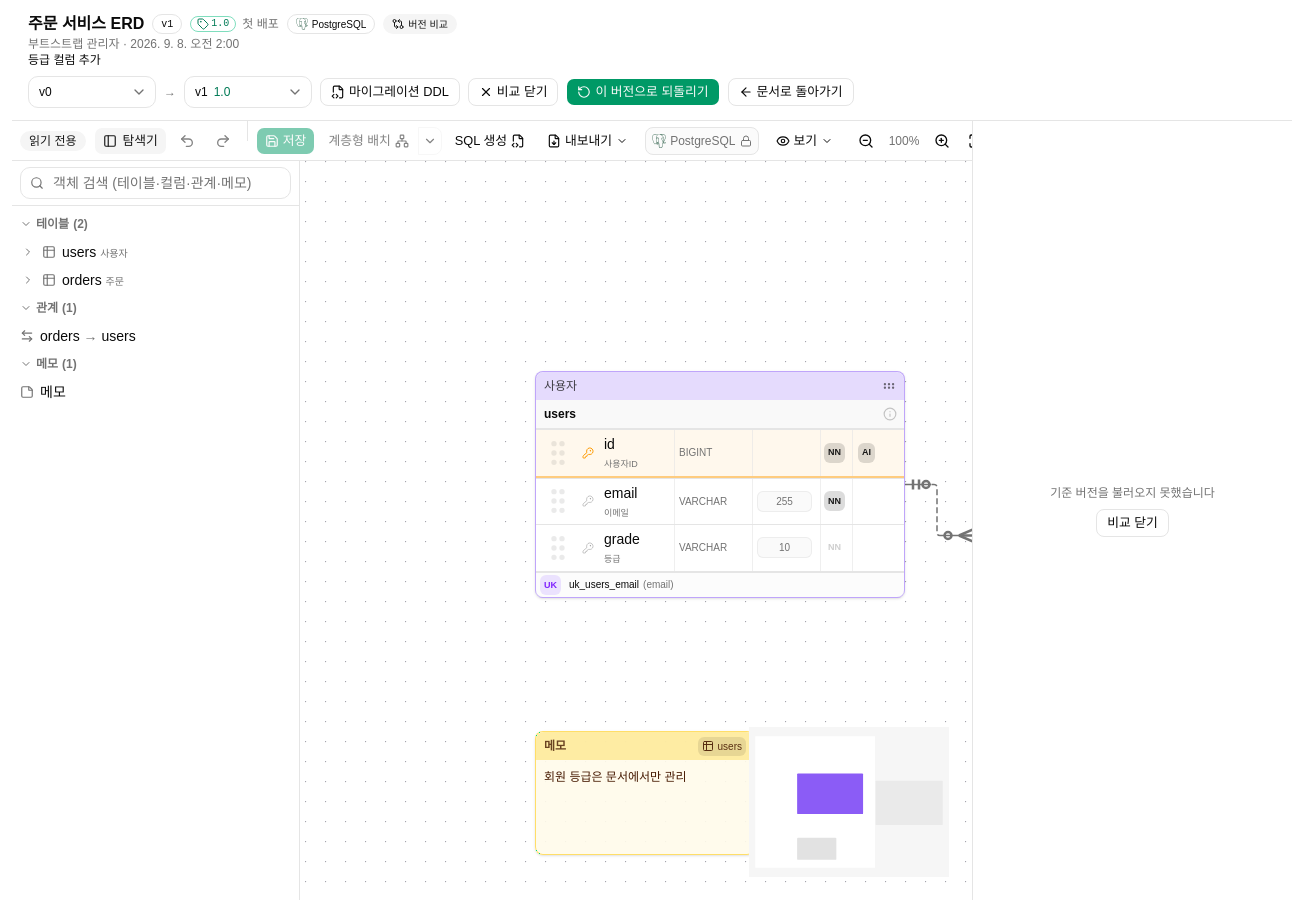
it: 버전 기록 뷰어 — 비교 모드 (?compare=N) › 기준 버전 조회 실패(404) — 안내 후 비교를 닫으면 일반 뷰어로 돌아간다
Expected: the element with test id "compare-panel-error" is shown, x1=972 y1=121 x2=1292 y2=899
Expected: the text "기준 버전을 불러오지 못했습니다" is shown, x1=1050 y1=484 x2=1215 y2=500
Step 1. Click the button with test id "compare-exit" → x=513, y=92, box x1=468 y1=78 x2=558 y2=106
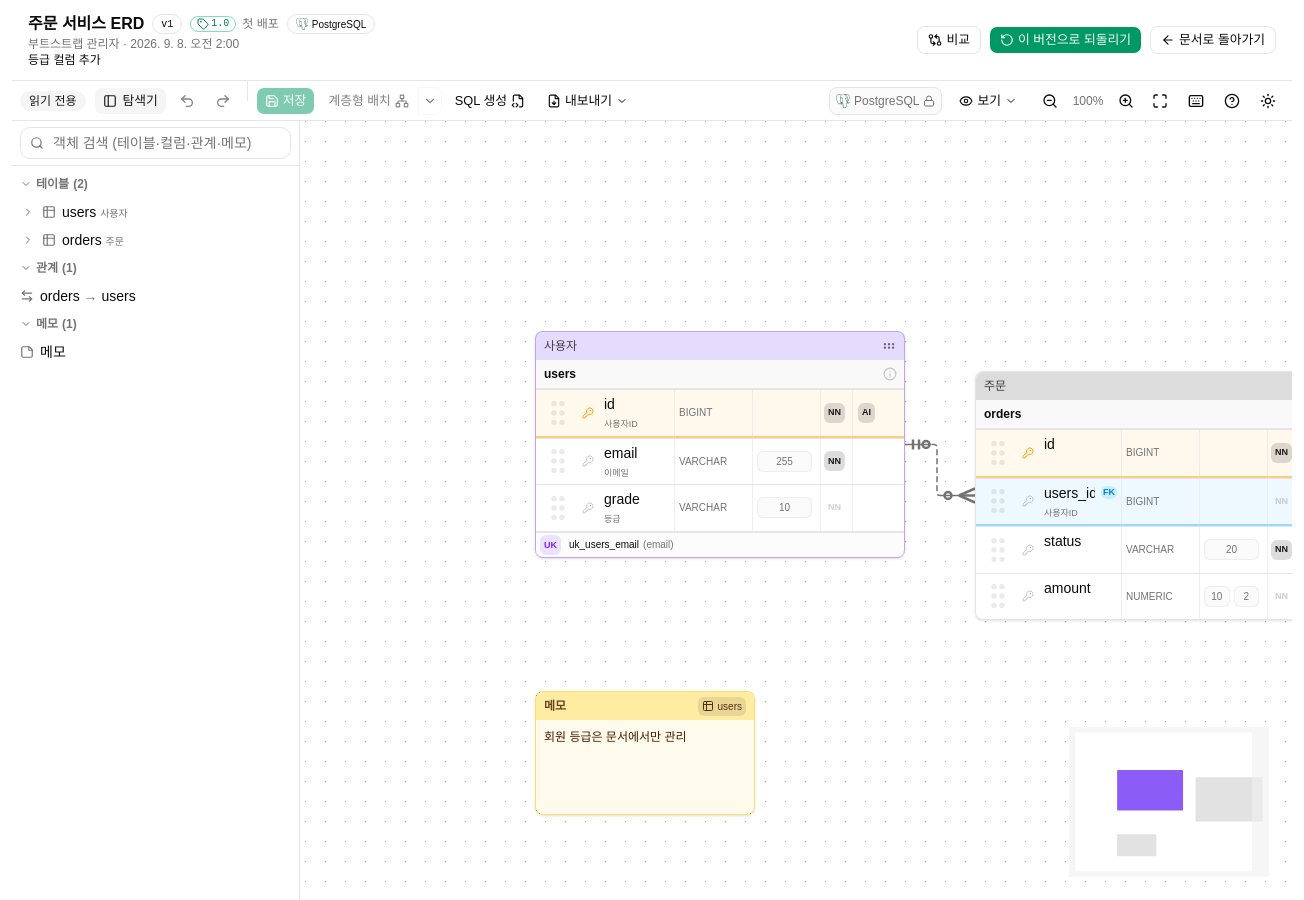
Expected: the button "이 버전으로 되돌리기" is shown, x1=989 y1=26 x2=1142 y2=54
Result: the element with test id "compare-panel-error" is gone
